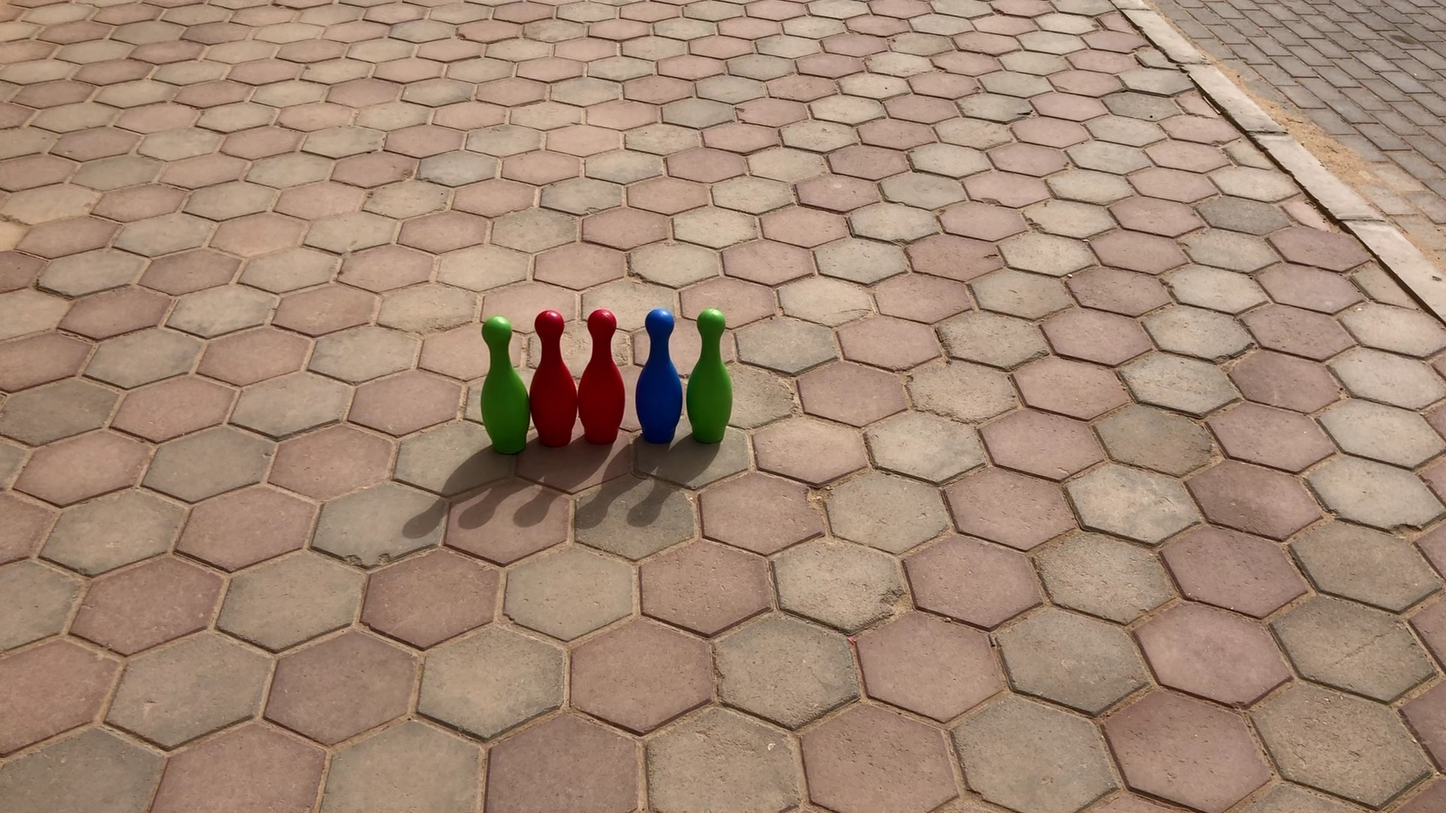pin: (530, 309, 580, 447), (481, 315, 528, 455), (638, 309, 683, 445), (689, 311, 734, 443), (581, 309, 625, 442)
